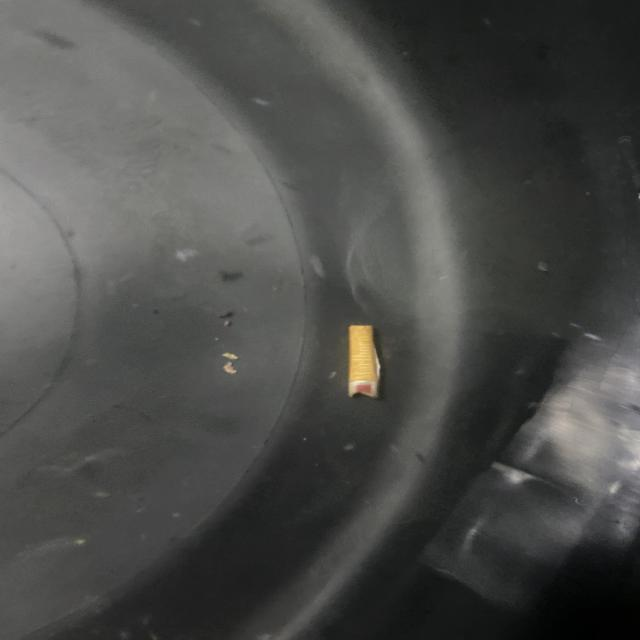Cigarette Filter: (331, 320, 395, 404)
